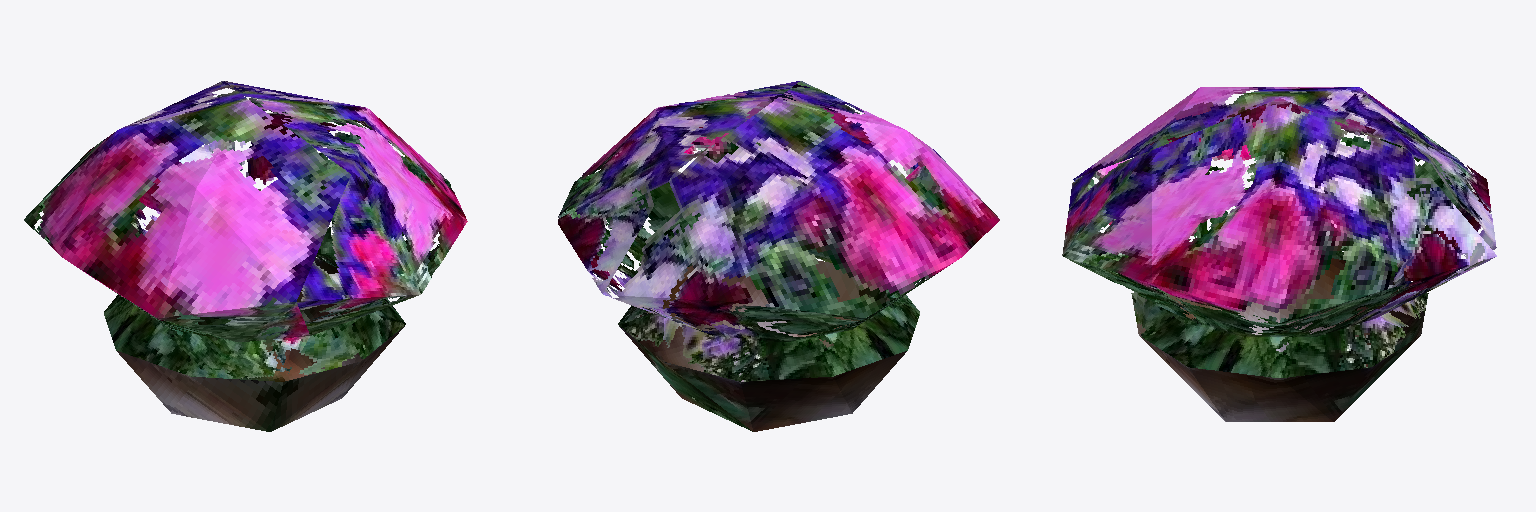
3 views of the same model, side by side, from view 1: azimuth 30°, elevation 25°; view 2: azimuth 150°, elevation 25°; view 3: azimuth 270°, elevation 25° (orthographic).
Visible parts, largest first — view 1: Icosphere; view 2: Icosphere; view 3: Icosphere.
Part boxes in pixels (x1,y1,x2,y2): Icosphere: (24, 81, 467, 431); Icosphere: (558, 81, 999, 431); Icosphere: (1062, 87, 1496, 421).
Bounding box in the file's own units: 2.56 × 1.97 × 2.5.
Materials: 1 (1 with a texture image).